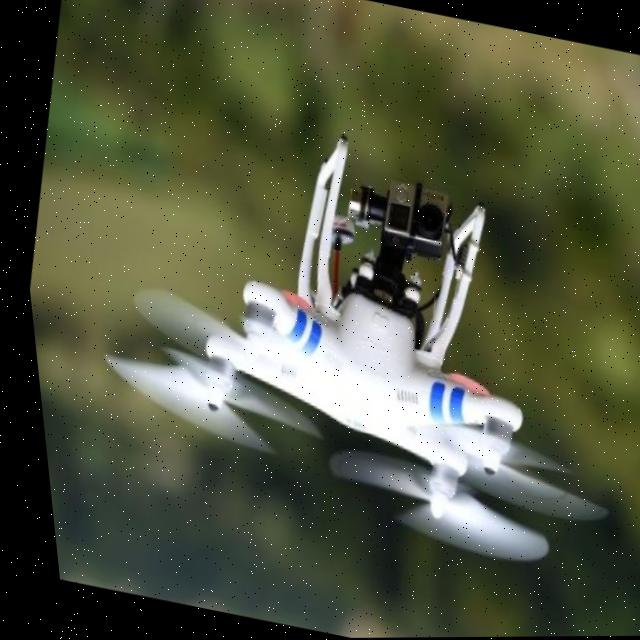drones: (42, 82, 640, 587)
